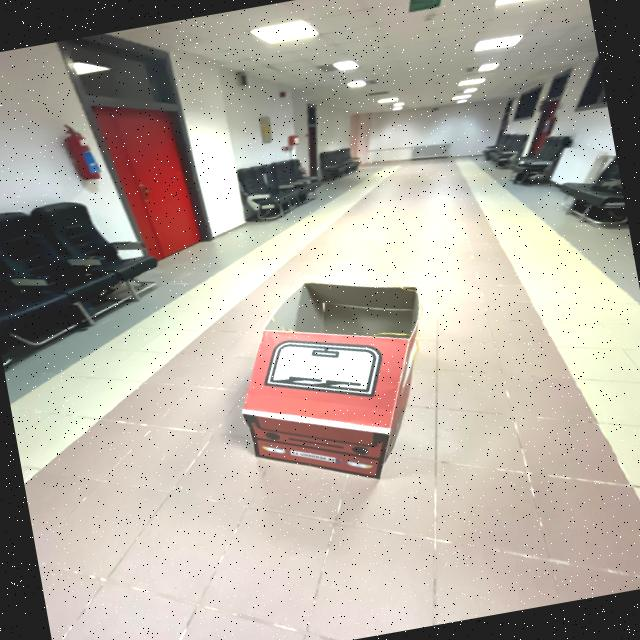red_car: (207, 248, 465, 501)
